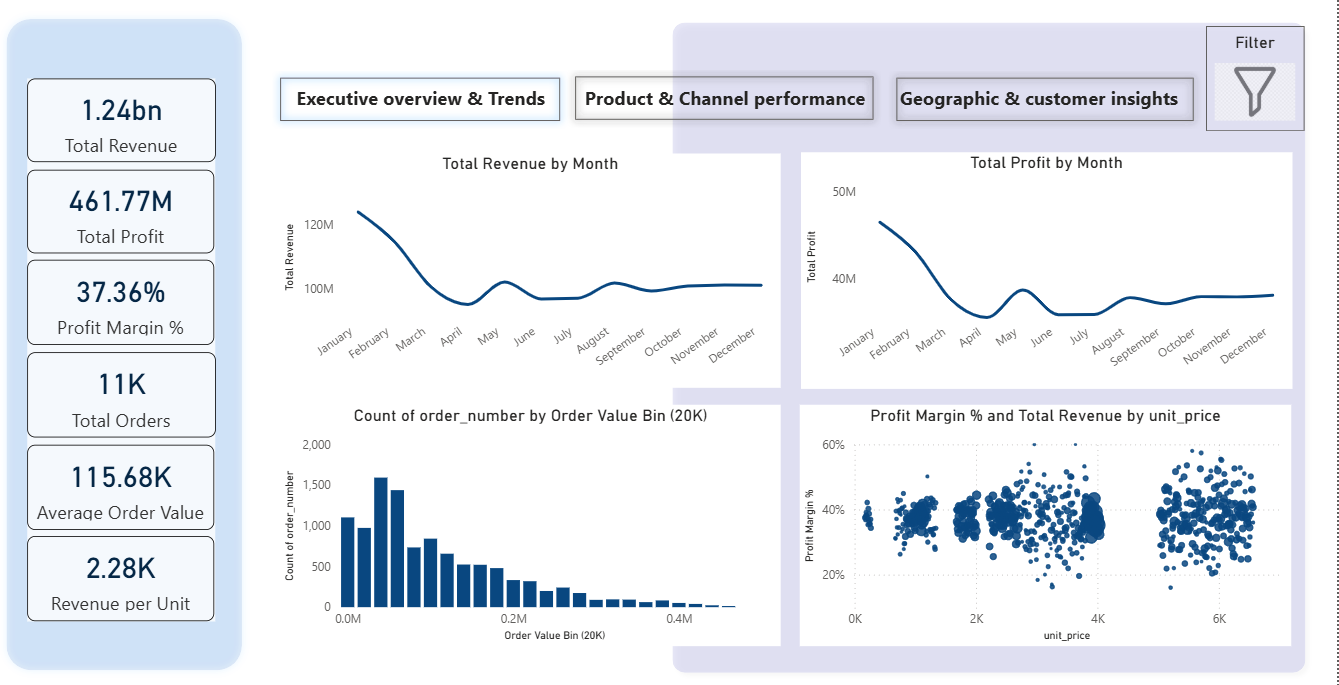

The page's visual inventory and layout, read from the dashboard file:
{"tool":"powerbi","page":{"name":"Executive overview & Trends","canvas":[1370,720],"ordinal":0},"visuals":[{"type":"shape","box":[687.5,27.5,660,677.5],"z":0},{"type":"card","fields":{"Values":["Query1.Total Orders"]},"box":[42.2,371.6,190.8,86.4],"z":0,"group":"g1"},{"type":"lineChart","fields":{"Y":["Query1.Total Revenue"],"Category":["Sales_data(EDA Exported).order_month.Variation.Date Hierarchy.Month"]},"box":[298.4,170.2,508.2,237.7],"z":1000},{"type":"card","fields":{"Values":["Query1.Profit Margin %"]},"box":[42.2,278.2,189.5,86.4],"z":1000,"group":"g1"},{"type":"image","title":"Filter","box":[1245.4,47.4,81.7,95],"z":2000},{"type":"card","fields":{"Values":["Query1.Total Profit"]},"box":[42.2,186.2,189.5,85.1],"z":2000,"group":"g1"},{"type":"card","fields":{"Values":["Query1.Total Revenue"]},"box":[42.2,94.1,190.8,85.1],"z":3000,"group":"g1"},{"type":"clusteredColumnChart","fields":{"Category":["Orders_Summary.Order Value Bin (10K)"],"Y":["CountNonNull(Orders_Summary.order_number)"]},"box":[298.4,424.2,508.2,244.7],"z":3000},{"type":"textbox","box":[302.4,96.7,276,44],"z":4000},{"type":"card","fields":{"Values":["Query1.Average Order Value"]},"box":[42.2,464.9,189.5,86.4],"z":4000,"group":"g1"},{"type":"lineChart","fields":{"Category":["Sales_data(EDA Exported).order_month.Variation.Date Hierarchy.Month"],"Y":["Query1.Total Profit"]},"box":[826.4,168.8,498.1,239.7],"z":5000},{"type":"card","fields":{"Values":["Query1.Revenue per Unit"]},"box":[42.2,558.2,189.5,86.4],"z":5000,"group":"g1"},{"type":"textbox","box":[594.4,96.7,310,38],"z":6000},{"type":"scatterChart","fields":{"X":["Sales_data(EDA Exported).unit_price"],"Y":["Query1.Profit Margin %"],"Size":["Query1.Total Revenue"]},"box":[825.7,424.2,498.8,244.7],"z":7000},{"type":"textbox","box":[908.4,96.7,318,44],"z":8000},{"type":"actionButton","box":[915,85,317.5,60],"z":9000},{"type":"shape","box":[12.1,25.8,254.8,676.5],"z":10000},{"type":"group","id":"g1","title":"Group 1","box":[42.2,94.1,190.8,550.5],"z":11000},{"type":"actionButton","box":[290.4,84.7,300,60],"z":12000},{"type":"actionButton","box":[590,84.3,318.6,60],"z":13000},{"type":"actionButton","box":[1236.7,40,100,106.7],"z":14000}]}

Visuals, with their boxes in screenshot pixels (x1, y1, x2, y2), scaled from the page's 1370x720 canvas onto the 1339x685 screenshot:
shape: {"left": 672, "top": 26, "right": 1317, "bottom": 671}
card - Query1.Total Orders: {"left": 41, "top": 354, "right": 228, "bottom": 436}
lineChart - Query1.Total Revenue x Sales_data(EDA Exported).order_month.Variation.Date Hierarchy.Month: {"left": 292, "top": 162, "right": 788, "bottom": 388}
card - Query1.Profit Margin %: {"left": 41, "top": 265, "right": 226, "bottom": 347}
"Filter" image: {"left": 1217, "top": 45, "right": 1297, "bottom": 135}
card - Query1.Total Profit: {"left": 41, "top": 177, "right": 226, "bottom": 258}
card - Query1.Total Revenue: {"left": 41, "top": 90, "right": 228, "bottom": 170}
clusteredColumnChart - Orders_Summary.Order Value Bin (10K) x CountNonNull(Orders_Summary.order_number): {"left": 292, "top": 404, "right": 788, "bottom": 636}
textbox: {"left": 296, "top": 92, "right": 565, "bottom": 134}
card - Query1.Average Order Value: {"left": 41, "top": 442, "right": 226, "bottom": 525}
lineChart - Sales_data(EDA Exported).order_month.Variation.Date Hierarchy.Month x Query1.Total Profit: {"left": 808, "top": 161, "right": 1295, "bottom": 389}
card - Query1.Revenue per Unit: {"left": 41, "top": 531, "right": 226, "bottom": 613}
textbox: {"left": 581, "top": 92, "right": 884, "bottom": 128}
scatterChart - Sales_data(EDA Exported).unit_price x Query1.Profit Margin %: {"left": 807, "top": 404, "right": 1295, "bottom": 636}
textbox: {"left": 888, "top": 92, "right": 1199, "bottom": 134}
actionButton: {"left": 894, "top": 81, "right": 1205, "bottom": 138}
shape: {"left": 12, "top": 25, "right": 261, "bottom": 668}
"Group 1" group: {"left": 41, "top": 90, "right": 228, "bottom": 613}
actionButton: {"left": 284, "top": 81, "right": 577, "bottom": 138}
actionButton: {"left": 577, "top": 80, "right": 888, "bottom": 137}
actionButton: {"left": 1209, "top": 38, "right": 1306, "bottom": 140}
